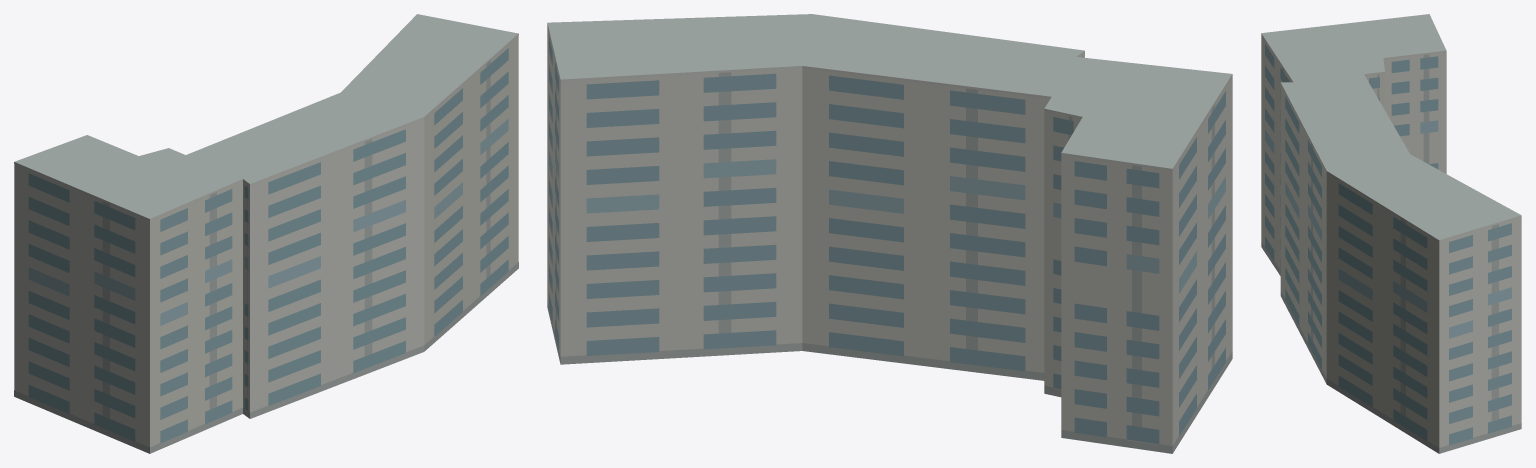
The model's file is residential-33f3eec3-763f-4b58-bdb1-c19f374e796c.glb.
The picture shows the model from 3 angles, left to right: view 1: azimuth 30°, elevation 25°; view 2: azimuth 150°, elevation 25°; view 3: azimuth 270°, elevation 25°; orthographic projection. The views are drawn at different scales.
Visible parts, largest first — view 1: residential-33f3eec3-763f-4b58-bdb1-c19f374e796c.tmp; view 2: residential-33f3eec3-763f-4b58-bdb1-c19f374e796c.tmp; view 3: residential-33f3eec3-763f-4b58-bdb1-c19f374e796c.tmp.
Part boxes in pixels (x1,y1,x2,y2): residential-33f3eec3-763f-4b58-bdb1-c19f374e796c.tmp: [14, 14, 518, 453]; residential-33f3eec3-763f-4b58-bdb1-c19f374e796c.tmp: [547, 14, 1232, 453]; residential-33f3eec3-763f-4b58-bdb1-c19f374e796c.tmp: [1261, 14, 1521, 453].
Size of the model in its own units: 68.15 by 30 by 33.16.
